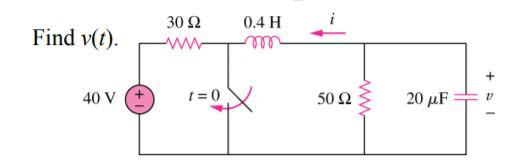Capacitor: (448, 74, 480, 110)
